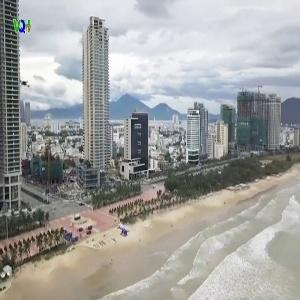drone: (6, 71, 42, 107)
